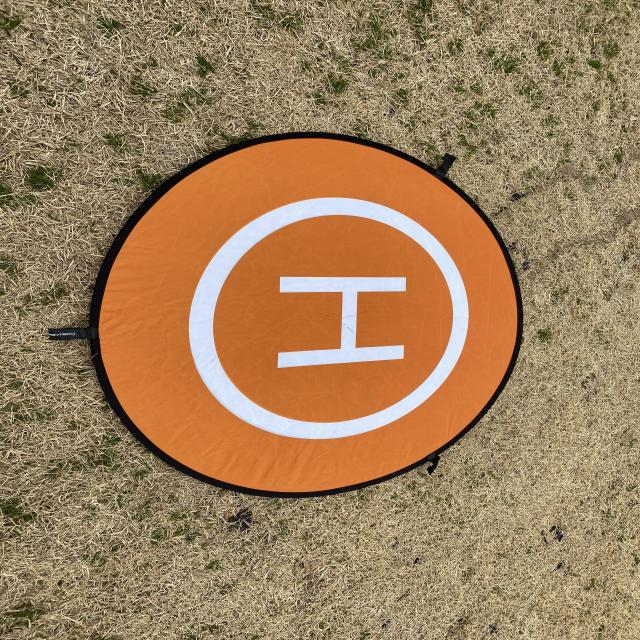helipad: (181, 194, 477, 445)
